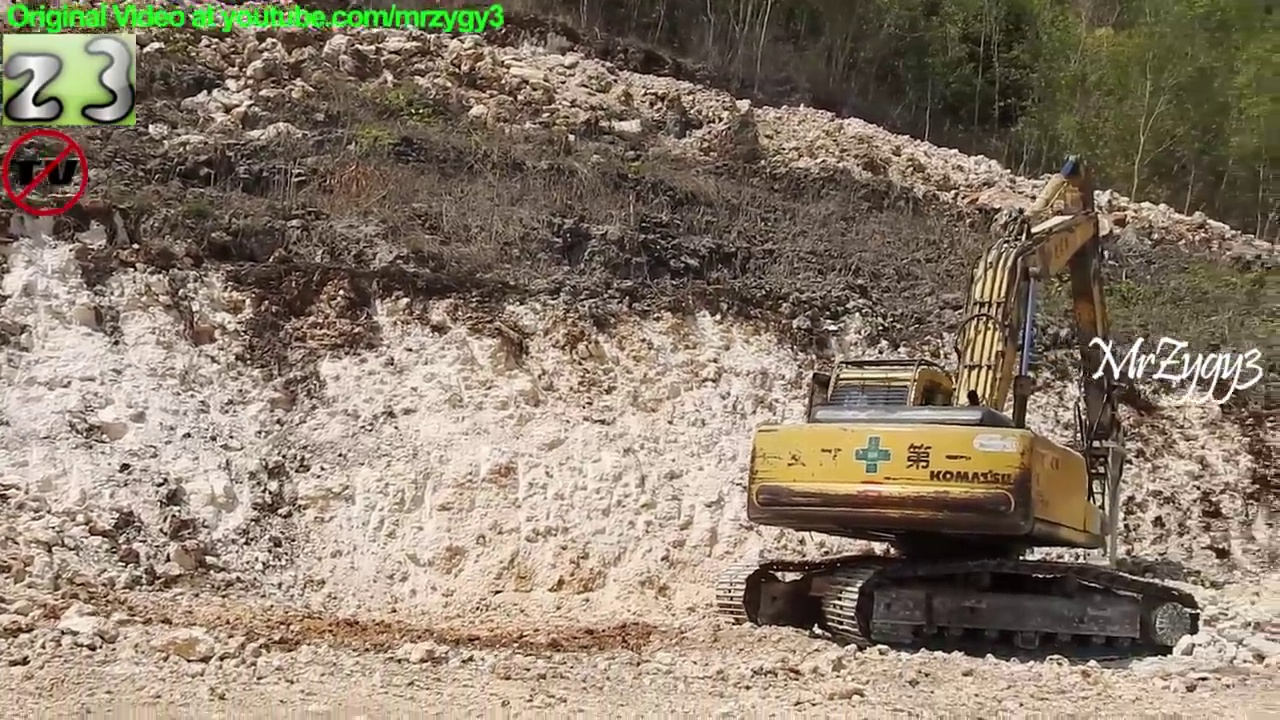excavator breaker: (709, 145, 1209, 674)
